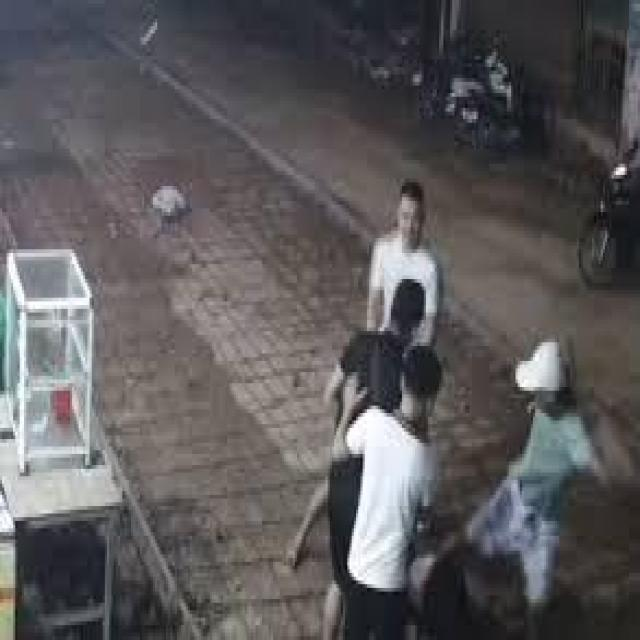fight: (304, 156, 494, 640)
